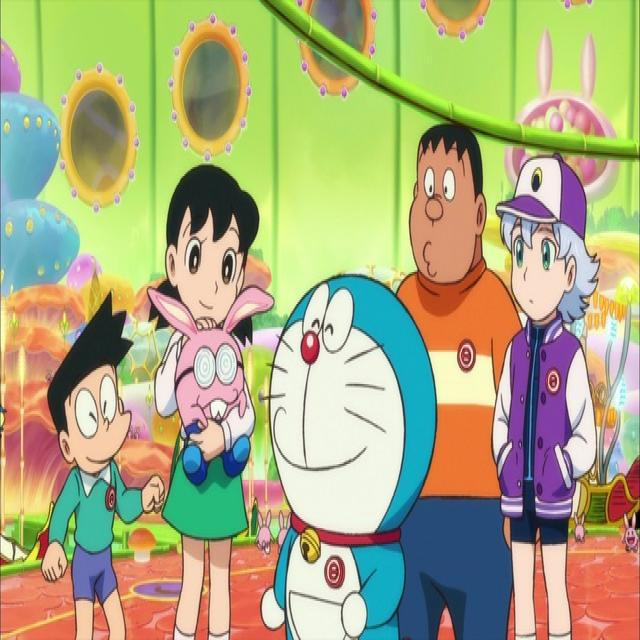doraemon: (252, 245, 453, 594)
jaian: (392, 100, 504, 338)
shizuka: (155, 138, 271, 348)
suneo: (42, 276, 155, 544)
